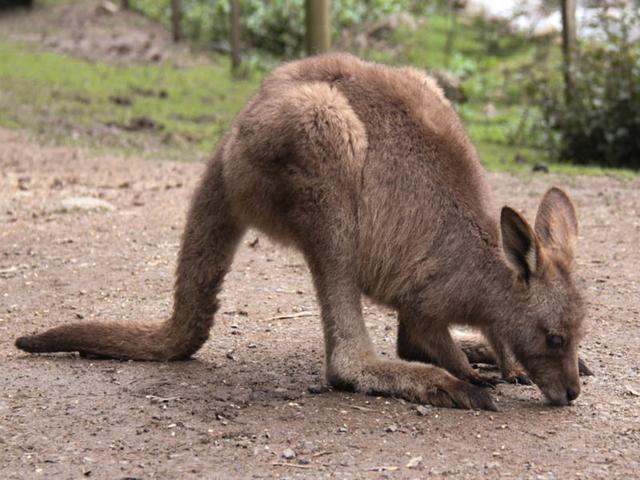kangaroo: (1, 31, 627, 420)
